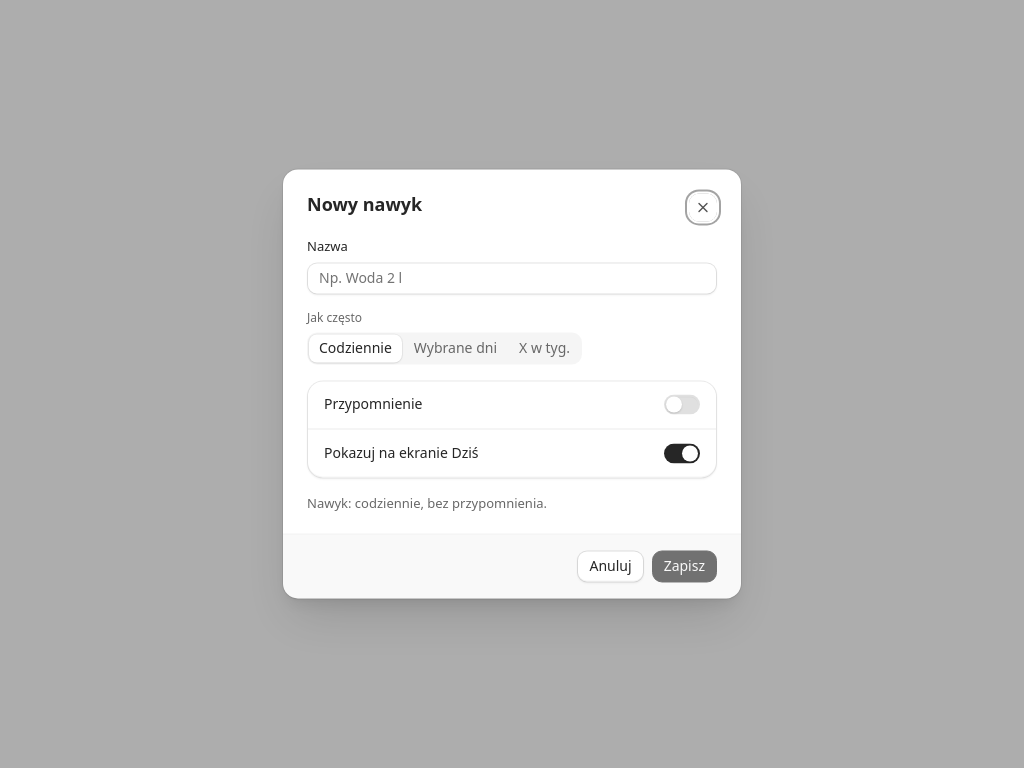
Test: MHabitSheet › przypomnienie: chipy godzin i „Inna…” z wyborem godziny
The width and height of the screenshot is (1024, 768).
Step 1. Click the switch named "Przypomnienie" → (682, 404), box top-left (664, 394), bottom-right (700, 414)
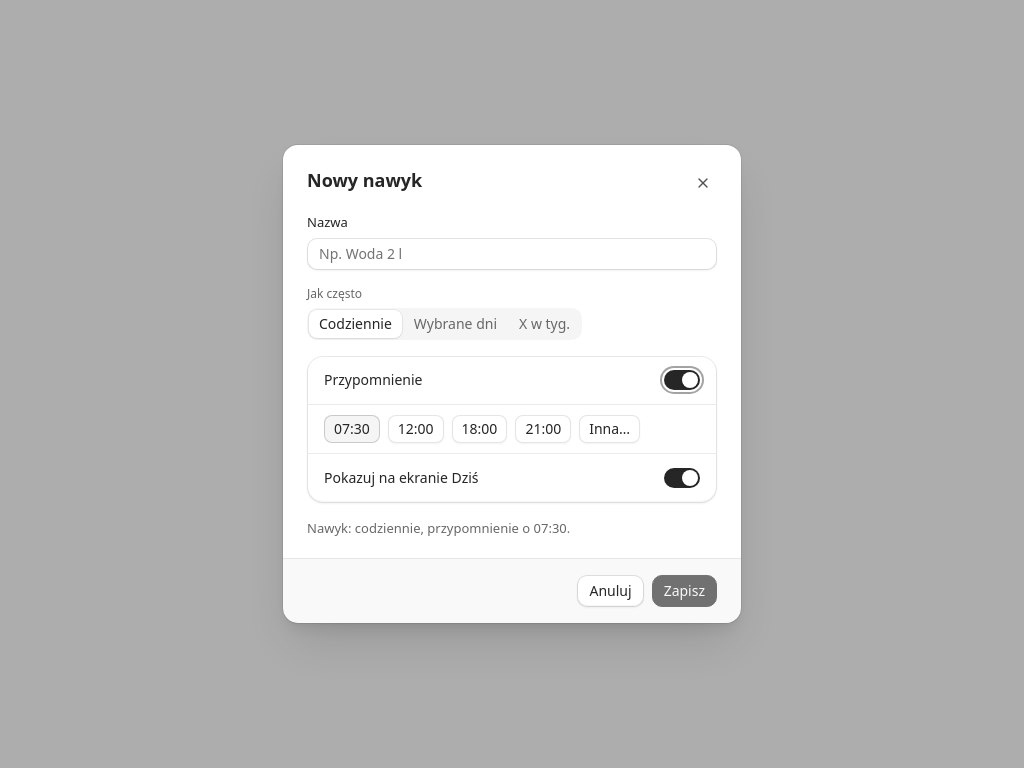
Result: the button "07:30" is shown at top-left (324, 414), bottom-right (380, 442)
Result: the button "12:00" is shown at top-left (388, 414), bottom-right (444, 442)
Result: the button "18:00" is shown
Step 2. Click the button "18:00" → (480, 428), box top-left (452, 414), bottom-right (507, 442)
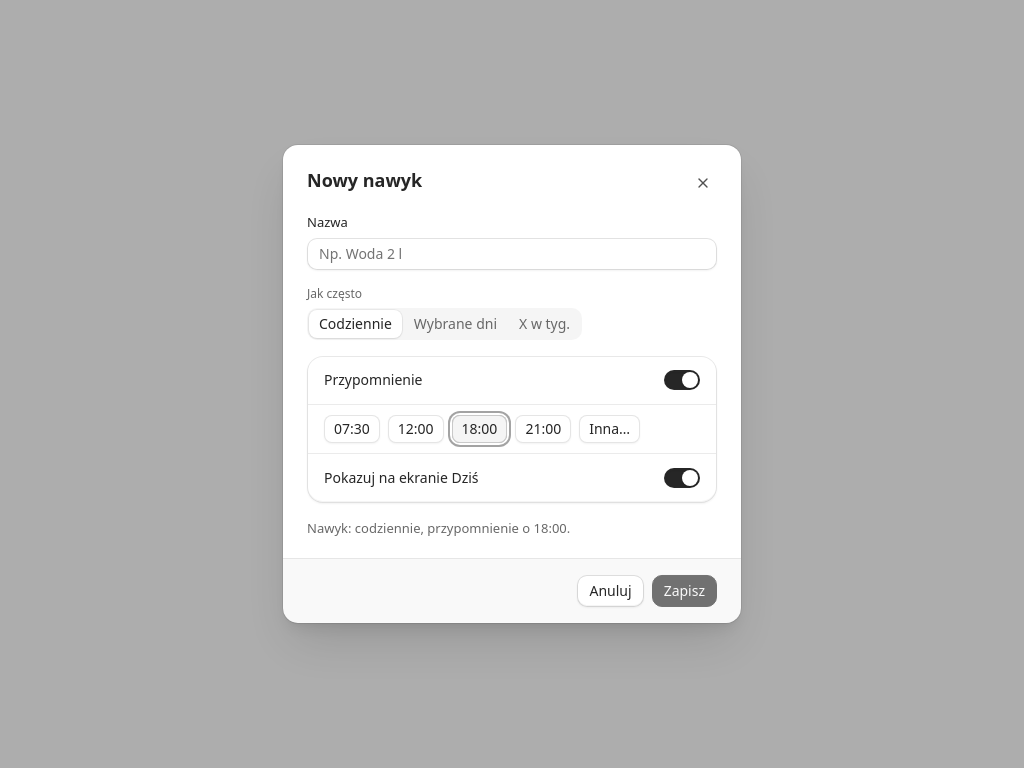
Result: the text "Nawyk: codziennie, przypomnienie o 18:00." is shown at top-left (307, 518), bottom-right (570, 536)
Step 3. Click the button "Inna…" → (610, 428), box top-left (579, 414), bottom-right (640, 442)
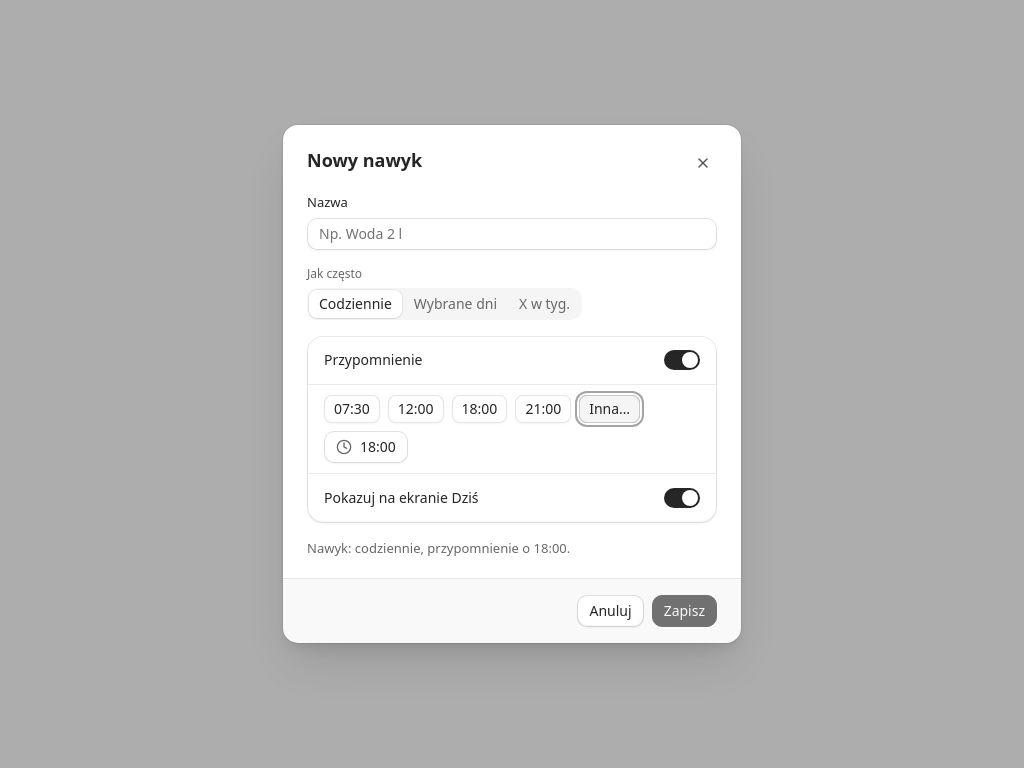
Result: the button named "Godzina przypomnienia" reads "18:00" at top-left (324, 430), bottom-right (408, 462)
